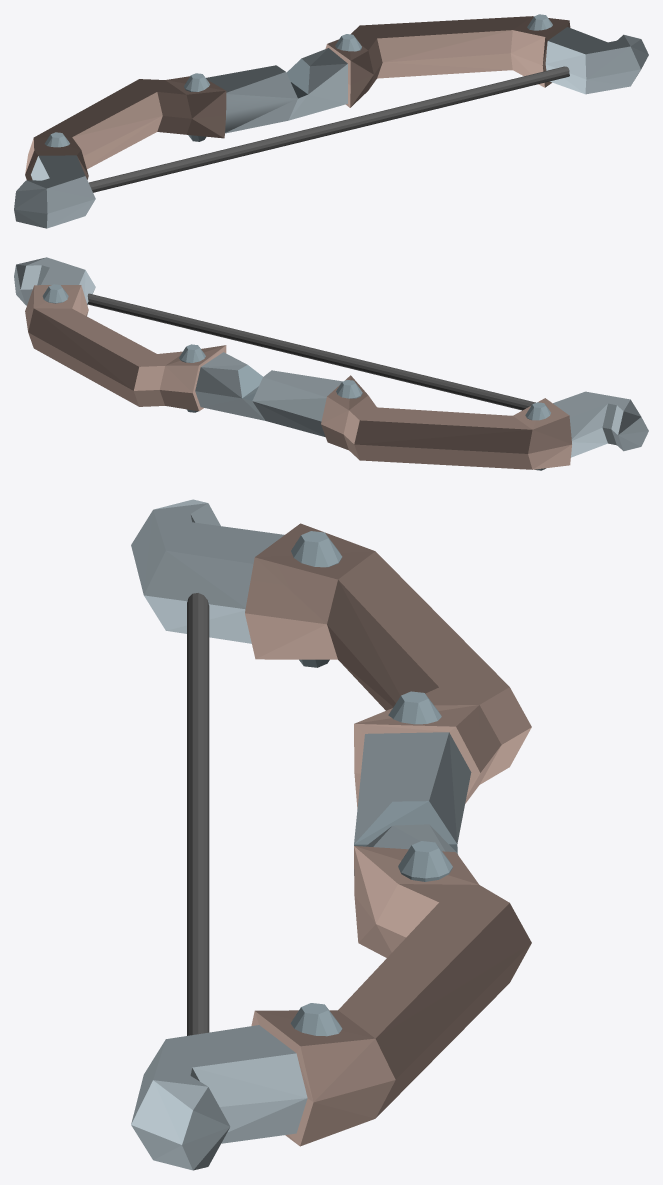
The model's file is Bow.fbx.
3 renders of one model, top to bottom at view 1: azimuth 30°, elevation 25°; view 2: azimuth 150°, elevation 25°; view 3: azimuth 270°, elevation 25°, orthographic. The views are drawn at different scales.
Visible parts, largest first — view 1: group255257481; view 2: group255257481; view 3: group255257481.
Part boxes in pixels (x1,y1,x2,y2): group255257481: (14,14,648,228); group255257481: (14,257,648,470); group255257481: (131,499,531,1170).
Size of the model in its own units: 184 by 17.49 by 50.31.
